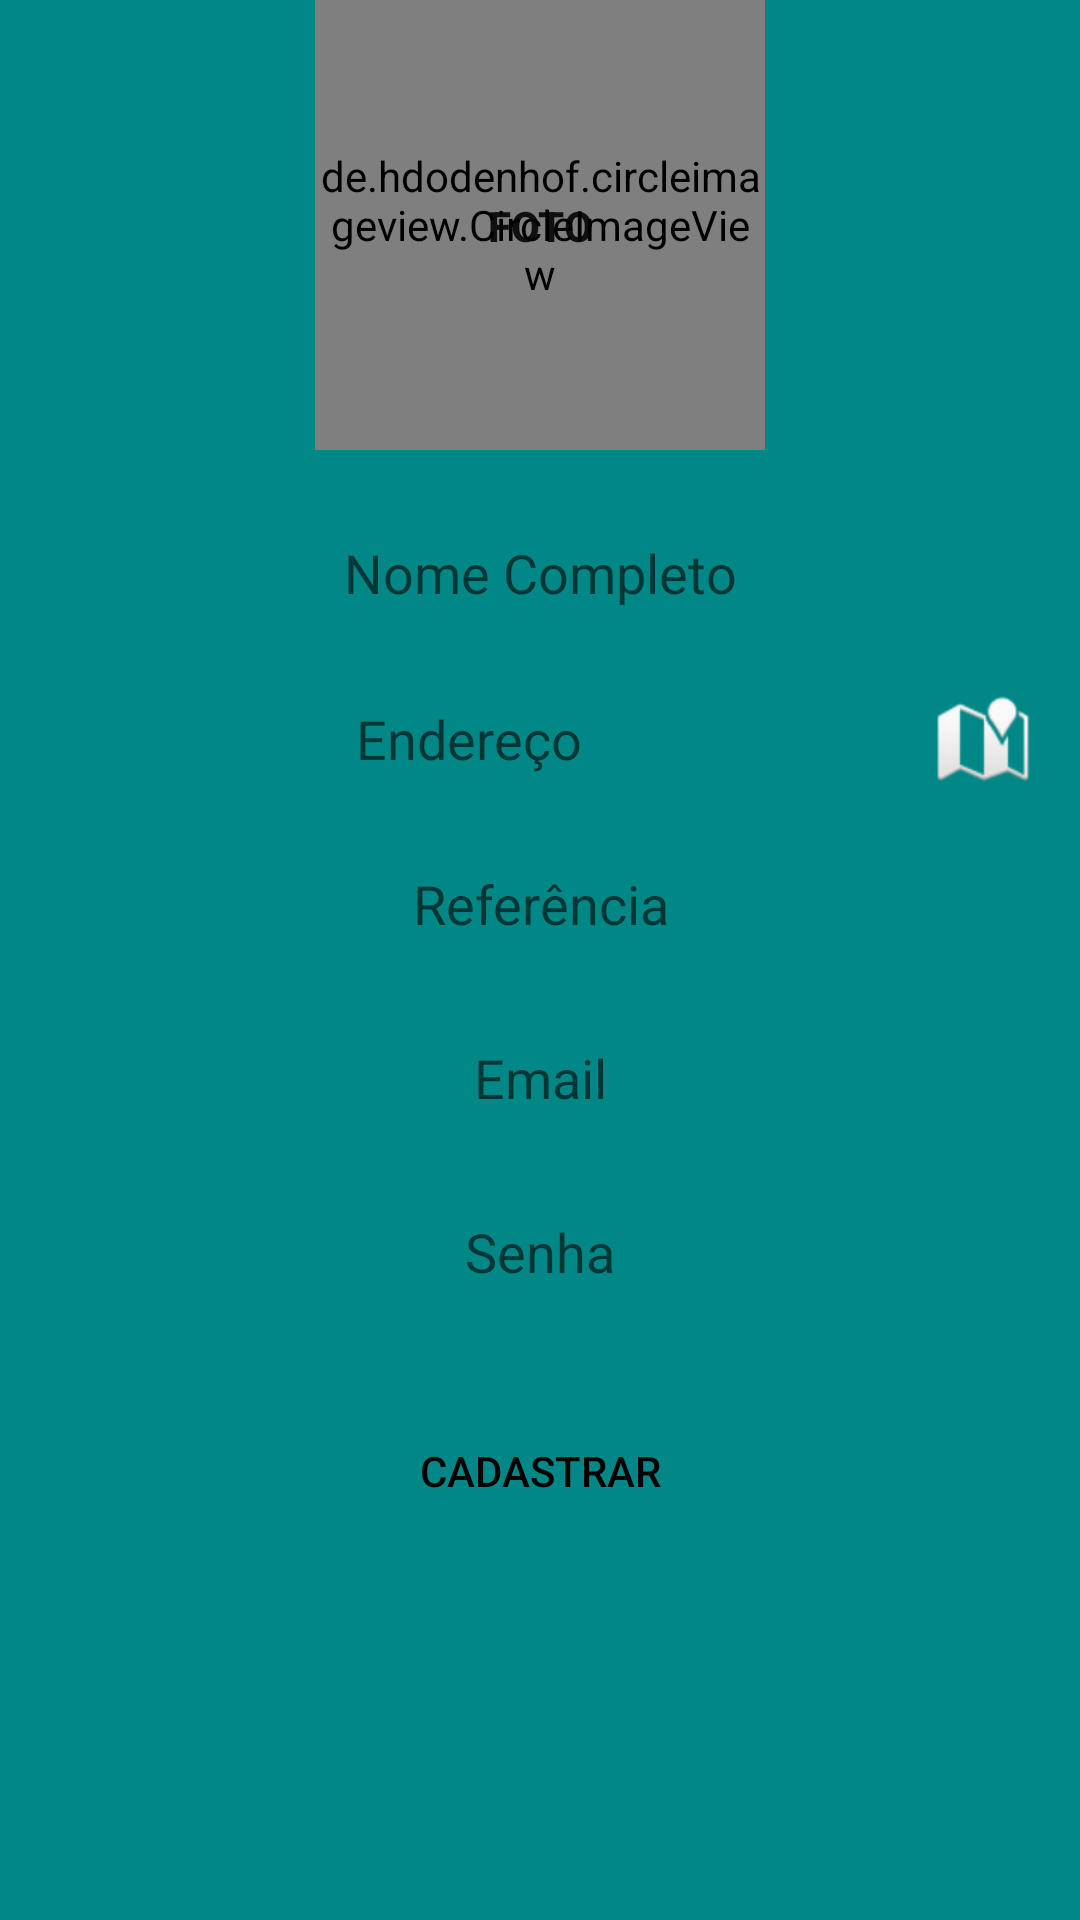

Named icons in this screenshot (1080*1920) and their bounding boxes, (x1, y1, x2, y2):
map: (937, 696, 1029, 781)
